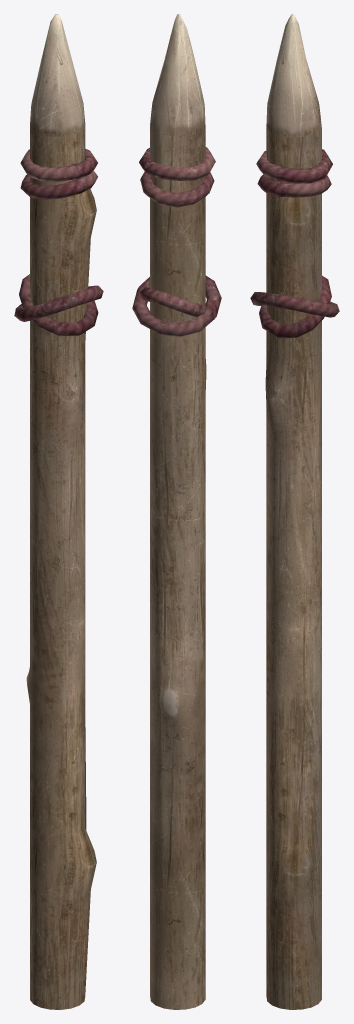
3 renders of one model, left to right at view 1: azimuth 30°, elevation 25°; view 2: azimuth 150°, elevation 25°; view 3: azimuth 330°, elevation 25°, orthographic.
Parts seen in each view (by area): view 1: SM_Garou_Set_SM_VerticalLog_03_1x6_LOD0; view 2: SM_Garou_Set_SM_VerticalLog_03_1x6_LOD0; view 3: SM_Garou_Set_SM_VerticalLog_03_1x6_LOD0.
Boxes of the visible parts, x1,y1,x2,y2 form: SM_Garou_Set_SM_VerticalLog_03_1x6_LOD0: [14, 14, 103, 1009]; SM_Garou_Set_SM_VerticalLog_03_1x6_LOD0: [132, 14, 221, 1009]; SM_Garou_Set_SM_VerticalLog_03_1x6_LOD0: [250, 14, 339, 1009].
Bounding box in the file's own units: 0.5132 × 6.04 × 0.4486.
1 material, 1 textured.
